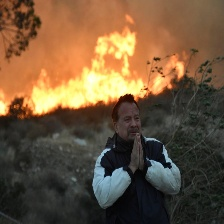fire: (1, 38, 141, 122)
smoke: (3, 1, 224, 76)
